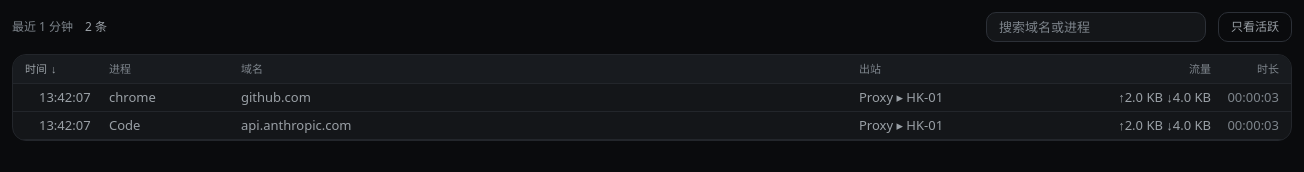
it: ConnectionsPage › 搜索不区分大小写，匹配域名与进程名
Expected: the text "chrome" is shown, x1=109 y1=88 x2=156 y2=106
Type "GITHUB" into the search field labelled "搜索域名或进程". click: (1096, 27)
box: x1=986 y1=12 x2=1206 y2=42
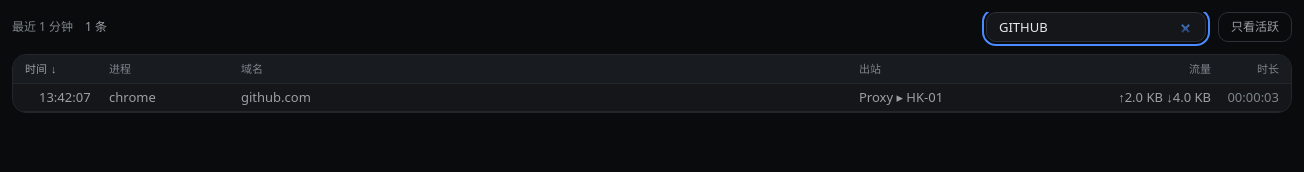
Expected: the text "chrome" is shown, x1=109 y1=88 x2=156 y2=106
Expected: the text "Code" is gone
Replace the text in the search field named "搜索域名或进程" with "cOdE". click: (1096, 27)
box: x1=986 y1=12 x2=1206 y2=42
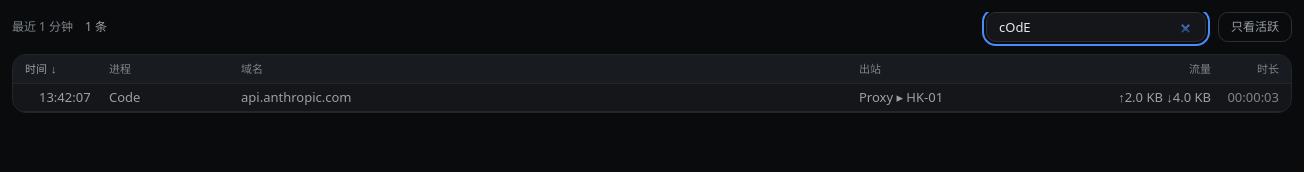
Expected: the text "Code" is shown, x1=109 y1=88 x2=140 y2=106
Expected: the text "chrome" is gone
